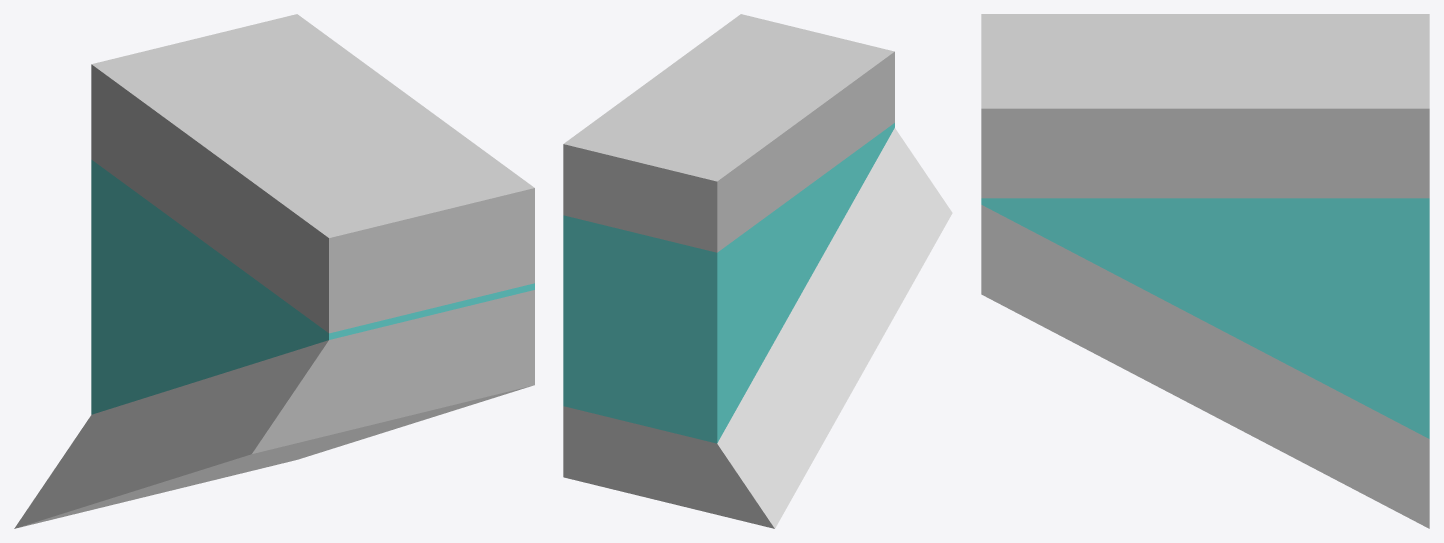
Rendered from WallLowToBase.fbx.
3 views of the same model, side by side, from view 1: azimuth 30°, elevation 25°; view 2: azimuth 150°, elevation 25°; view 3: azimuth 270°, elevation 25° (orthographic). The views are drawn at different scales.
Parts seen in each view (by area): view 1: LowToBase; view 2: LowToBase; view 3: LowToBase.
Boxes of the visible parts, x1,y1,x2,y2 form: LowToBase: [14, 14, 534, 528]; LowToBase: [563, 14, 952, 528]; LowToBase: [981, 14, 1429, 528].
Bounding box in the file's own units: 54.17 × 81.49 × 78.74.
